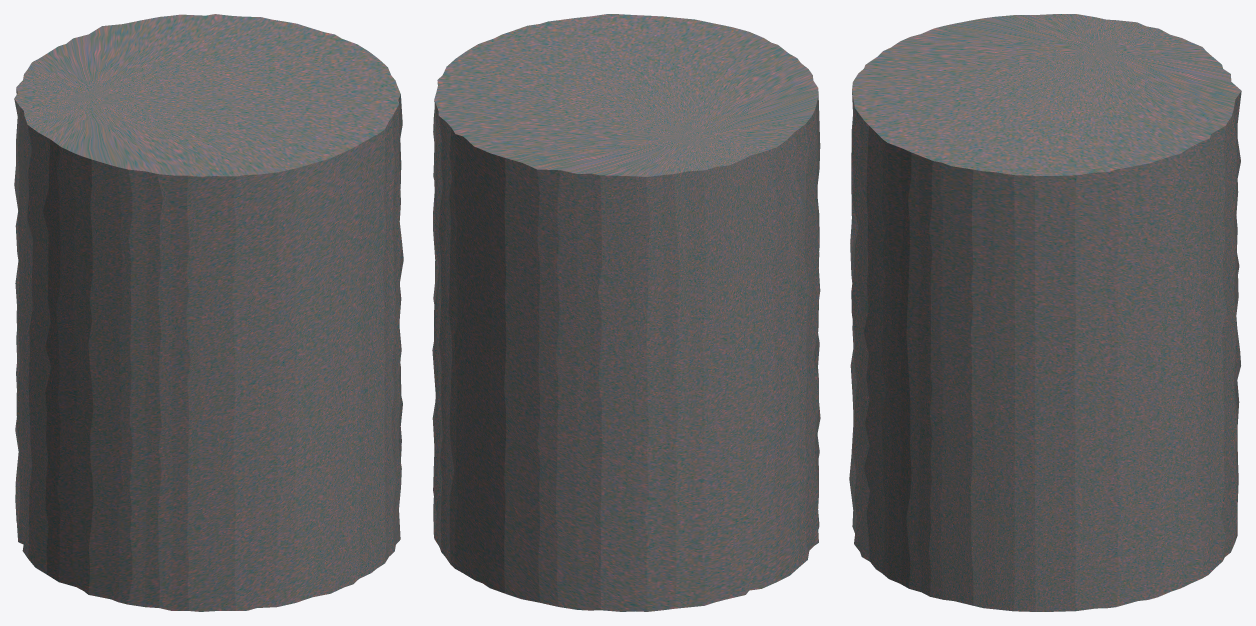
Rendered from barrel_10.dae.
3 renders of one model, left to right at view 1: azimuth 30°, elevation 25°; view 2: azimuth 150°, elevation 25°; view 3: azimuth 270°, elevation 25°, orthographic.
Parts seen in each view (by area): view 1: Cylinder; view 2: Cylinder; view 3: Cylinder.
Boxes of the visible parts, <box> form: Cylinder: <box>14,14,403,611</box>; Cylinder: <box>432,14,820,611</box>; Cylinder: <box>849,14,1241,611</box>.
Size of the model in its own units: 0.8179 by 0.8158 by 1.
1 material, 1 textured.
